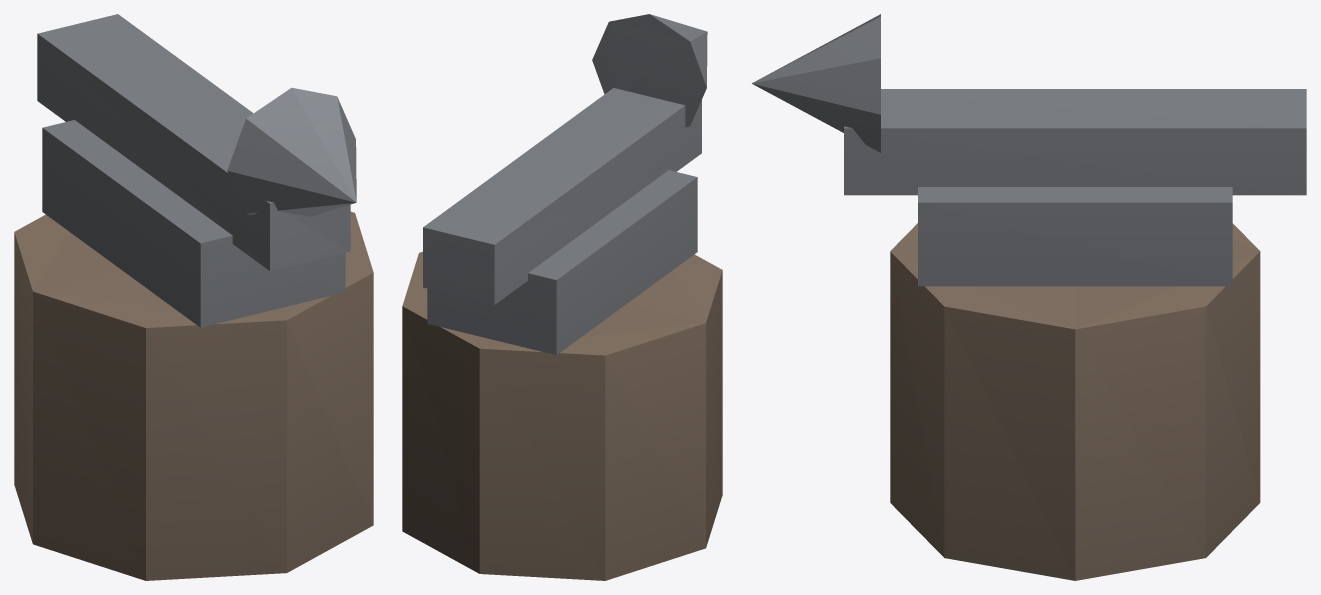
Rendered from anvil.glb.
The picture shows the model from 3 angles, left to right: view 1: azimuth 30°, elevation 25°; view 2: azimuth 150°, elevation 25°; view 3: azimuth 270°, elevation 25°; orthographic projection. The views are drawn at different scales.
Visible parts, largest first — view 1: anvil; view 2: anvil; view 3: anvil.
Part boxes in pixels (x1,y1,x2,y2): anvil: (14, 14, 373, 580); anvil: (402, 14, 722, 580); anvil: (752, 14, 1306, 580).
Bounding box in the file's own units: 0.4 × 0.58 × 0.6.
